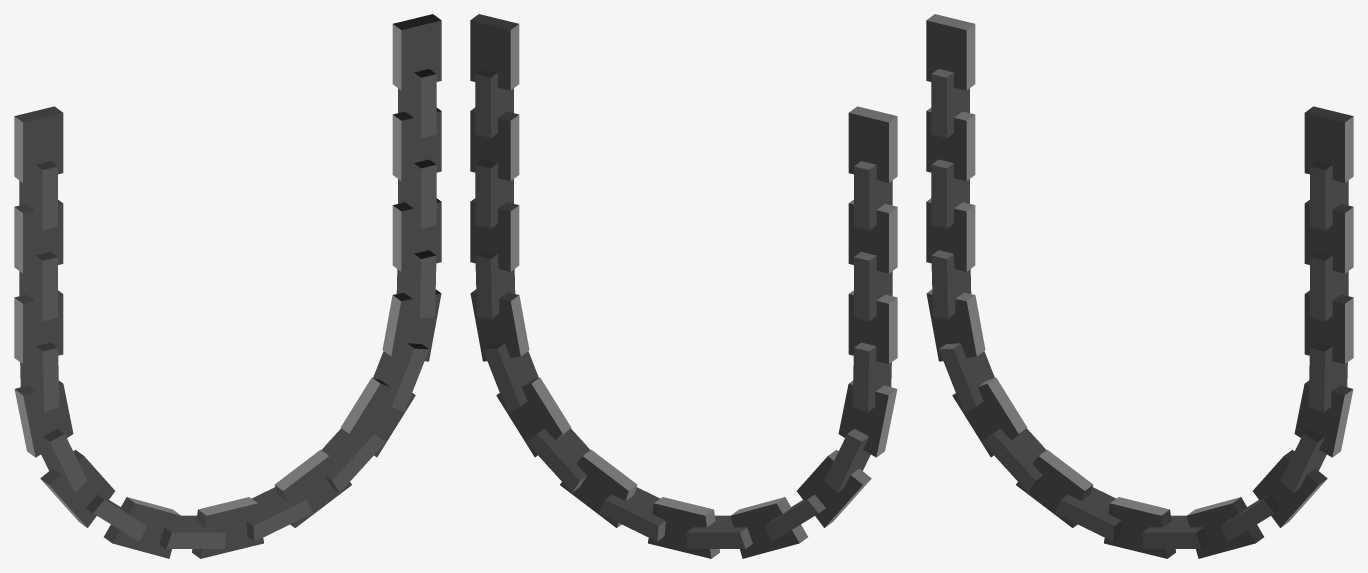
Rendered from SD_Prop_HangingChain_04.fbx.
The picture shows the model from 3 angles, left to right: view 1: azimuth 30°, elevation 25°; view 2: azimuth 150°, elevation 25°; view 3: azimuth 330°, elevation 25°; orthographic projection.
Visible parts, largest first — view 1: SD_Prop_HangingChain_04; view 2: SD_Prop_HangingChain_04; view 3: SD_Prop_HangingChain_04.
Part boxes in pixels (x1,y1,x2,y2): SD_Prop_HangingChain_04: (14, 14, 441, 558); SD_Prop_HangingChain_04: (470, 14, 897, 558); SD_Prop_HangingChain_04: (926, 14, 1353, 558).
Size of the model in its own units: 2.84 by 3.11 by 0.2728.
